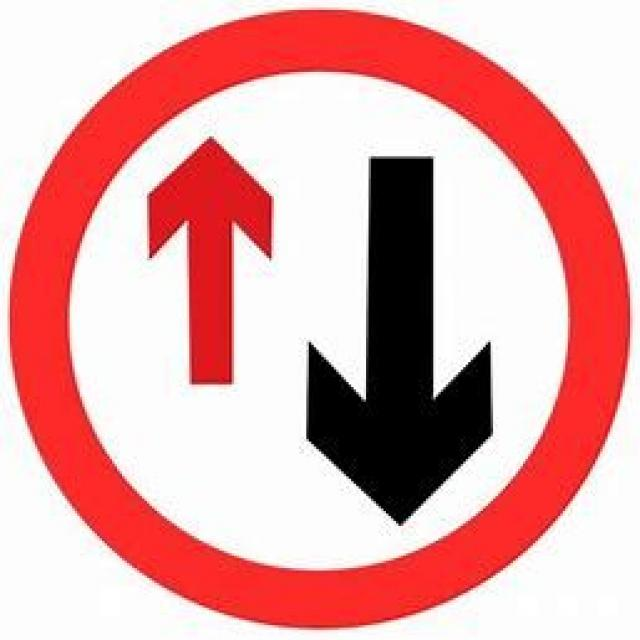PRIORITY_FOR_ONCOMING_VEHICLES: (5, 5, 630, 628)
